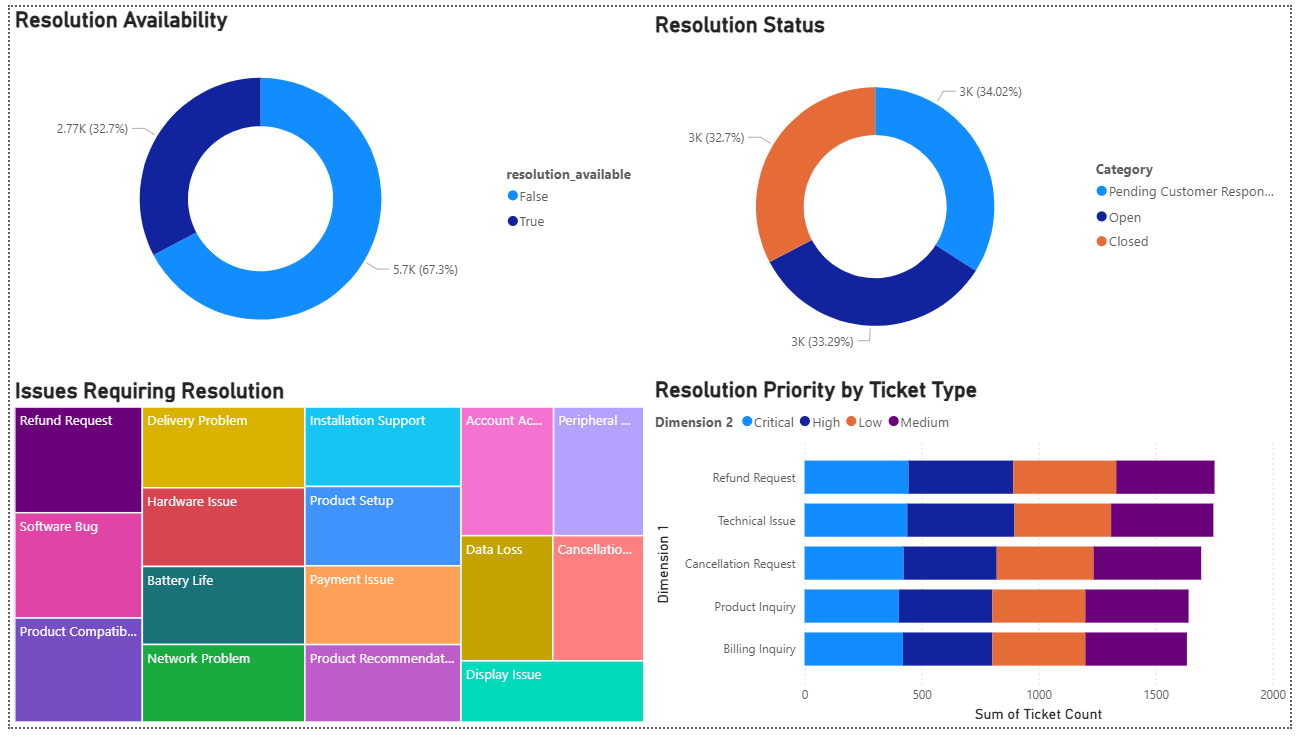

What the dashboard file says about the page in this screenshot:
{"tool":"powerbi","page":{"name":"Resolution & Response Performance","canvas":[1280,720],"ordinal":2},"visuals":[{"type":"donutChart","title":"Resolution Availability","fields":{"Category":["Ticket_Data.resolution_available"],"Y":["CountNonNull(Ticket_Data.ticket_id)"]},"box":[0,0,639.5,359.9],"z":0},{"type":"barChart","title":"Resolution Priority by Ticket Type","fields":{"Category":["Cross_Analysis.Dimension 1"],"Series":["Cross_Analysis.Dimension 2"],"Y":["Sum(Cross_Analysis.Ticket Count)"]},"box":[639.5,370.5,640.8,349.7],"z":1000},{"type":"donutChart","title":"Resolution Status","fields":{"Category":["Ticket_Analysis.Category"],"Y":["Sum(Ticket_Analysis.Ticket Count)"]},"box":[639.5,4.9,640.8,365.6],"z":2000},{"type":"treemap","title":"Issues Requiring Resolution","fields":{"Group":["Ticket_Analysis.Category"],"Values":["Sum(Ticket_Analysis.Ticket Count)"]},"box":[0,371,639,349],"z":3000}]}

Visuals, with their boxes in screenshot pixels (x1, y1, x2, y2), scaled from the page's 1280x720 canvas onto the 1300x736 screenshot:
"Resolution Availability" donutChart: x1=0 y1=0 x2=649 y2=368
"Resolution Priority by Ticket Type" barChart: x1=649 y1=379 x2=1299 y2=735
"Resolution Status" donutChart: x1=649 y1=5 x2=1299 y2=379
"Issues Requiring Resolution" treemap: x1=0 y1=379 x2=649 y2=735
